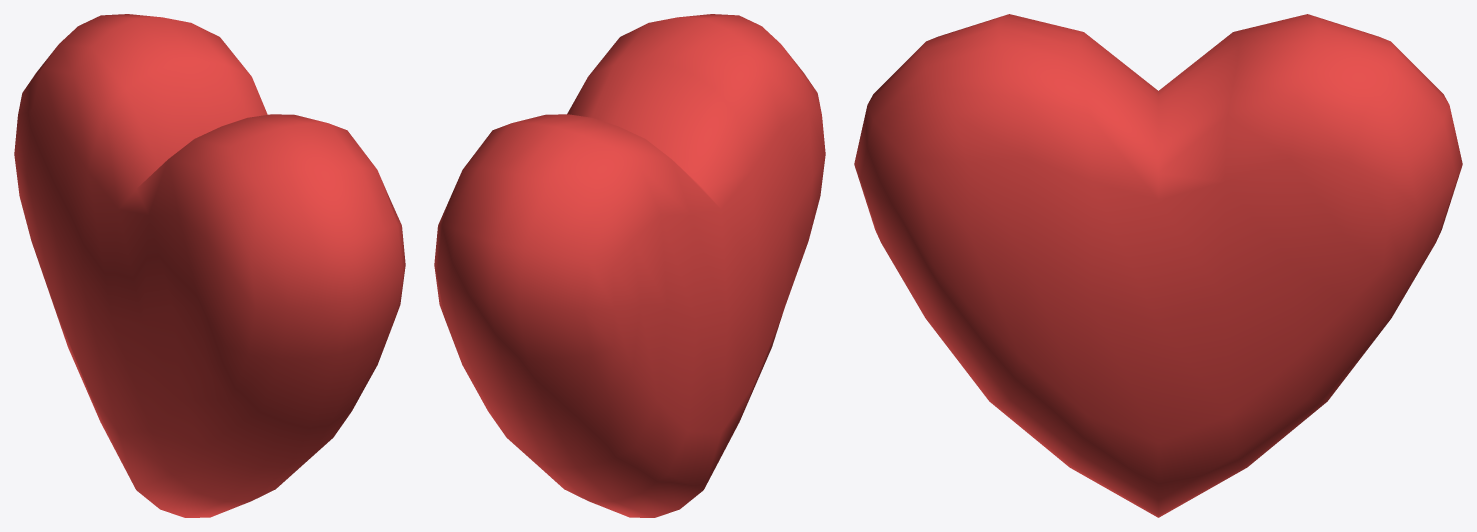
The model's file is heart.fbx.
The picture shows the model from 3 angles, left to right: view 1: azimuth 30°, elevation 25°; view 2: azimuth 150°, elevation 25°; view 3: azimuth 270°, elevation 25°; orthographic projection. The views are drawn at different scales.
Parts seen in each view (by area): view 1: heart; view 2: heart; view 3: heart.
Boxes of the visible parts, <box> form: heart: <box>14,14,405,517</box>; heart: <box>434,14,825,517</box>; heart: <box>854,14,1462,517</box>.
Bounding box in the file's own units: 48.96 × 106 × 121.
